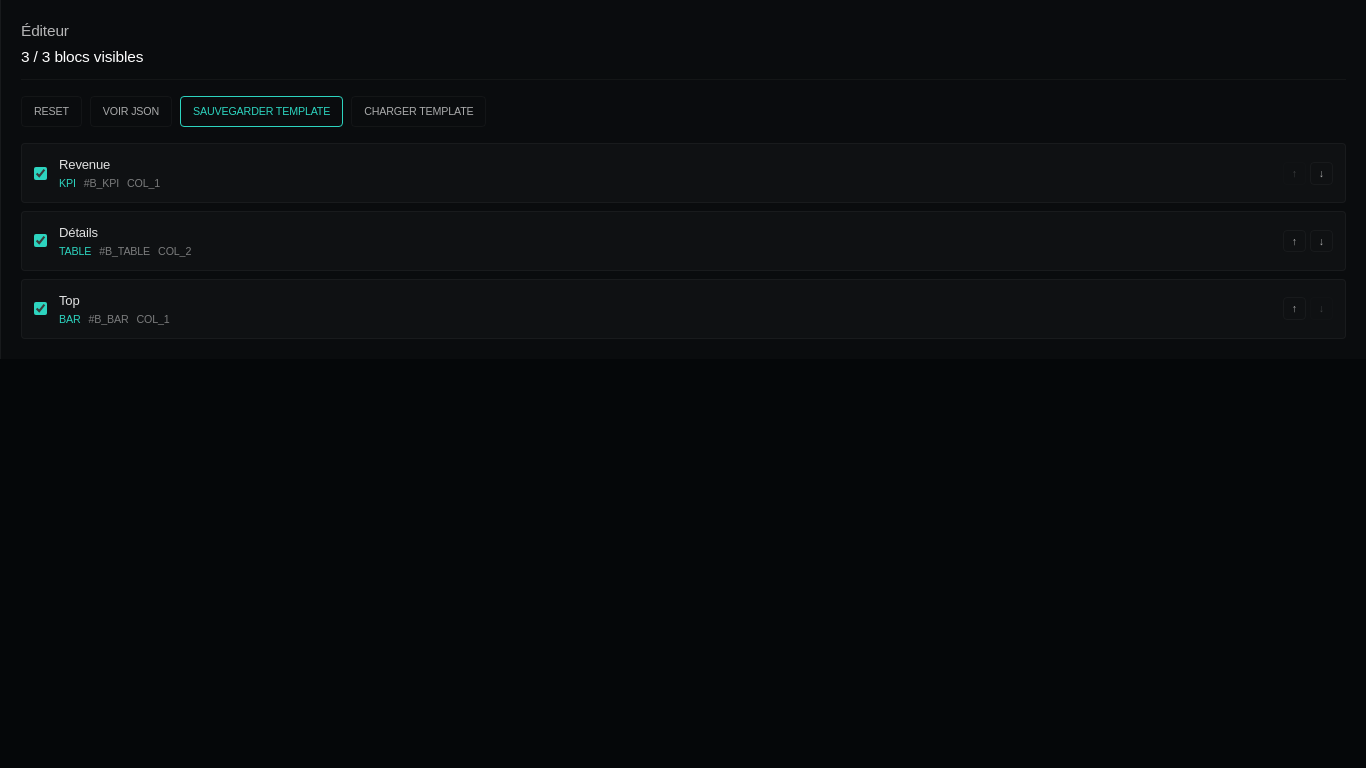
Scenario: ReportEditor — save template › ouvre le formulaire au clic sur 'Sauvegarder template'
Click the button with test id "report-editor-save-template" at (262, 112), box [180,96,343,127]
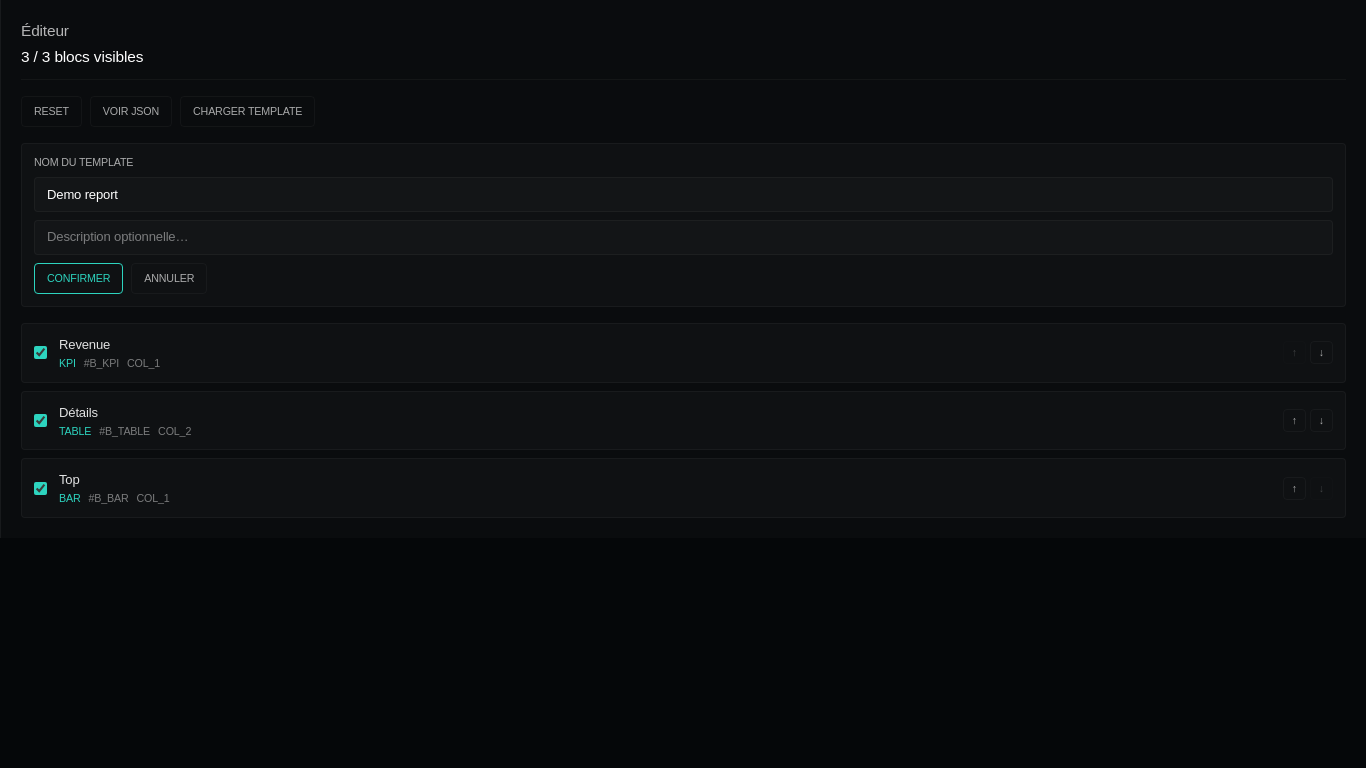
Now the element with test id "report-editor-save-form" is shown, box [21,143,1346,307]
Now the field with test id "report-editor-save-name" is shown, box [34,177,1333,212]
